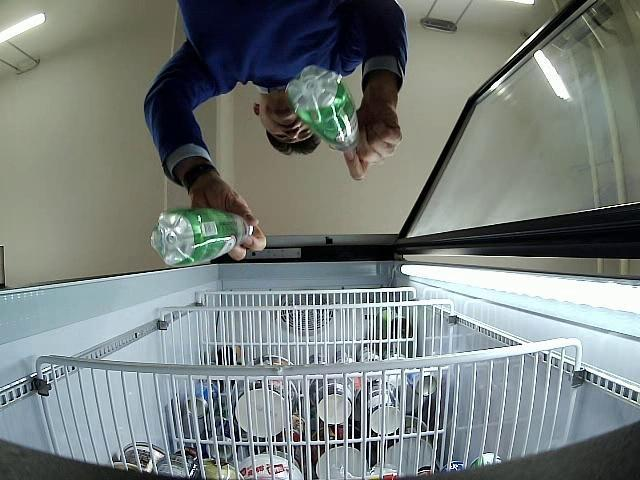18_trevi: (288, 65, 360, 152), (150, 211, 252, 265)
